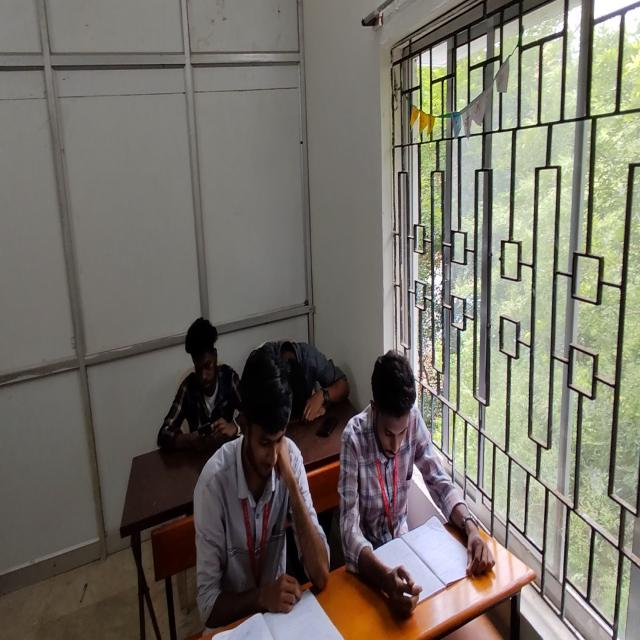reading: (192, 343, 330, 634), (347, 351, 477, 610)
sleeping: (248, 339, 347, 426)
using_mobile: (157, 318, 244, 453)
